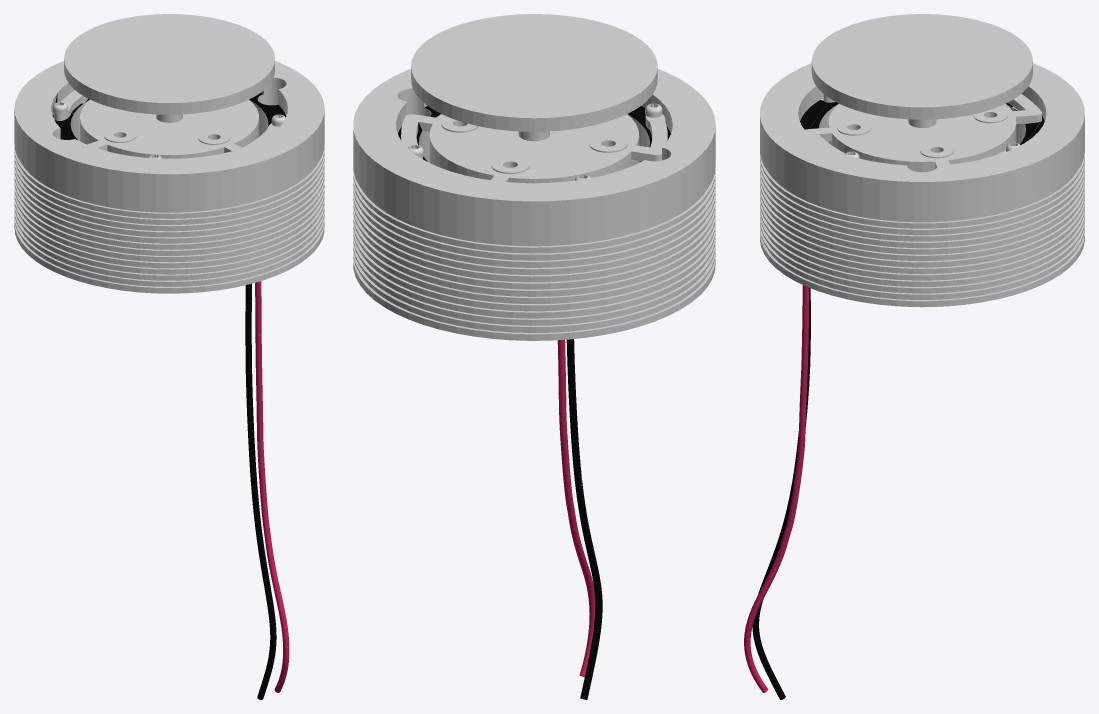
File: Surface_Transducer_Large.dae
The picture shows the model from 3 angles, left to right: view 1: azimuth 30°, elevation 25°; view 2: azimuth 150°, elevation 25°; view 3: azimuth 270°, elevation 25°; orthographic projection. The views are drawn at different scales.
Parts seen in each view (by area): view 1: Surface_Transducer_Large; view 2: Surface_Transducer_Large; view 3: Surface_Transducer_Large.
Boxes of the visible parts, bbox=[...] form: Surface_Transducer_Large: bbox=[14, 14, 324, 699]; Surface_Transducer_Large: bbox=[353, 14, 715, 699]; Surface_Transducer_Large: bbox=[744, 14, 1084, 699].
Size of the model in its own units: 50 by 52.41 by 106.
